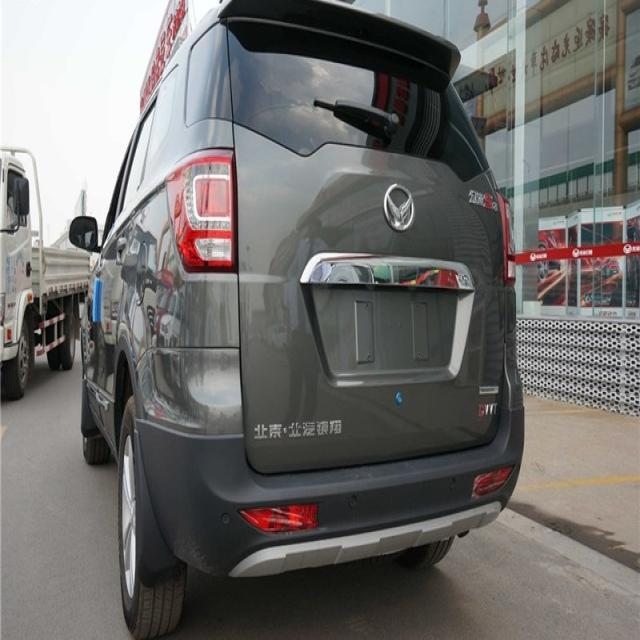back_glass: (226, 13, 490, 182)
back_left_side_light: (165, 142, 237, 272)
back_right_side_light: (496, 189, 519, 285)
front_left_side_mirror: (66, 212, 102, 255)
rear_bumper: (130, 398, 526, 582)
wheel: (116, 393, 187, 640)
